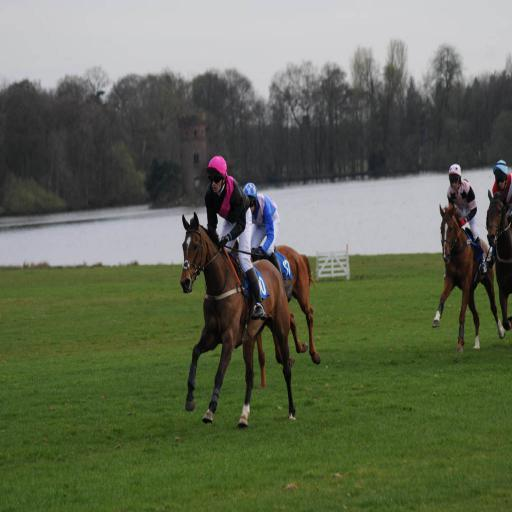horse: (180, 214, 294, 430), (226, 240, 323, 387), (432, 201, 508, 356), (486, 187, 510, 331)
